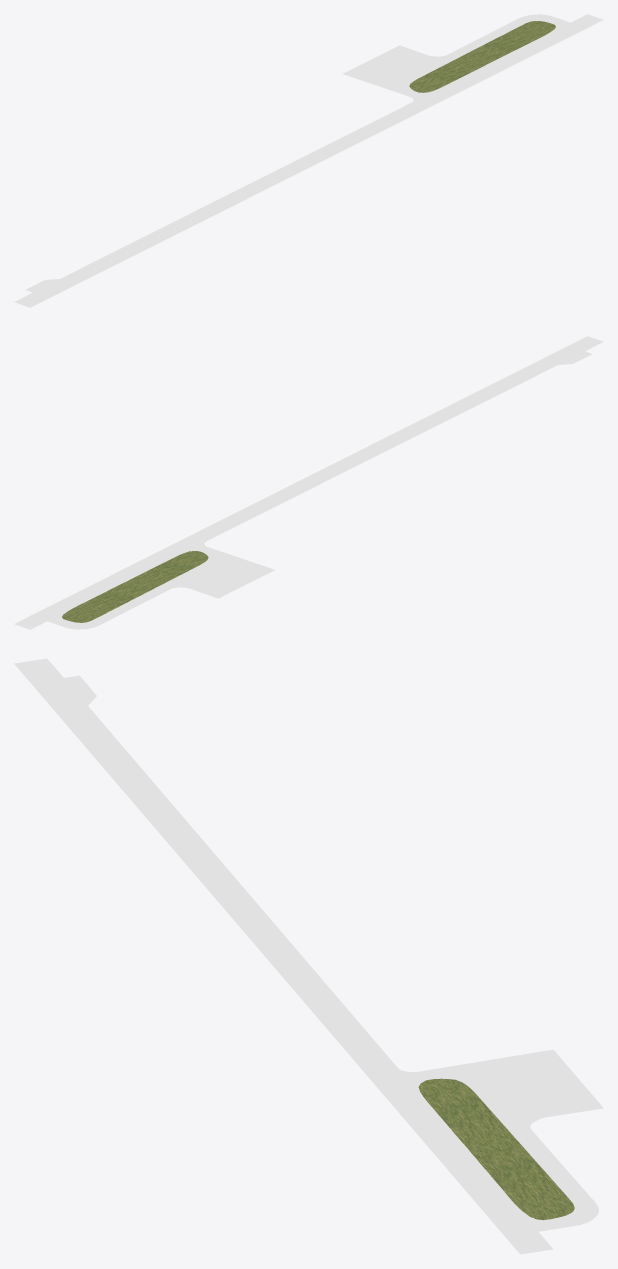
The picture shows the model from 3 angles, top to bottom: view 1: azimuth 30°, elevation 25°; view 2: azimuth 210°, elevation 25°; view 3: azimuth 270°, elevation 25°; orthographic projection. The views are drawn at different scales.
Visible parts, largest first — view 1: node7, Plane.004, node1, node6, node3; view 2: node7, Plane.004, node6, node1, node3; view 3: node7, Plane.004, node1, node6, node3.
Boxes of the visible parts, x1,y1,x2,y2 form: node7: [14, 14, 603, 307]; Plane.004: [409, 21, 555, 92]; node1: [355, 49, 443, 89]; node6: [21, 15, 596, 305]; node3: [39, 29, 570, 296]; node7: [14, 336, 603, 629]; Plane.004: [62, 551, 208, 622]; node6: [21, 338, 594, 628]; node1: [174, 554, 262, 593]; node3: [47, 348, 578, 614]; node7: [14, 658, 603, 1254]; Plane.004: [418, 1078, 574, 1219]; node1: [459, 1055, 581, 1120]; node6: [25, 660, 594, 1251]; node3: [45, 679, 515, 1226].
Size of the model in its own units: 1849 by 0.5 by 773.
8 materials, 1 textured.
